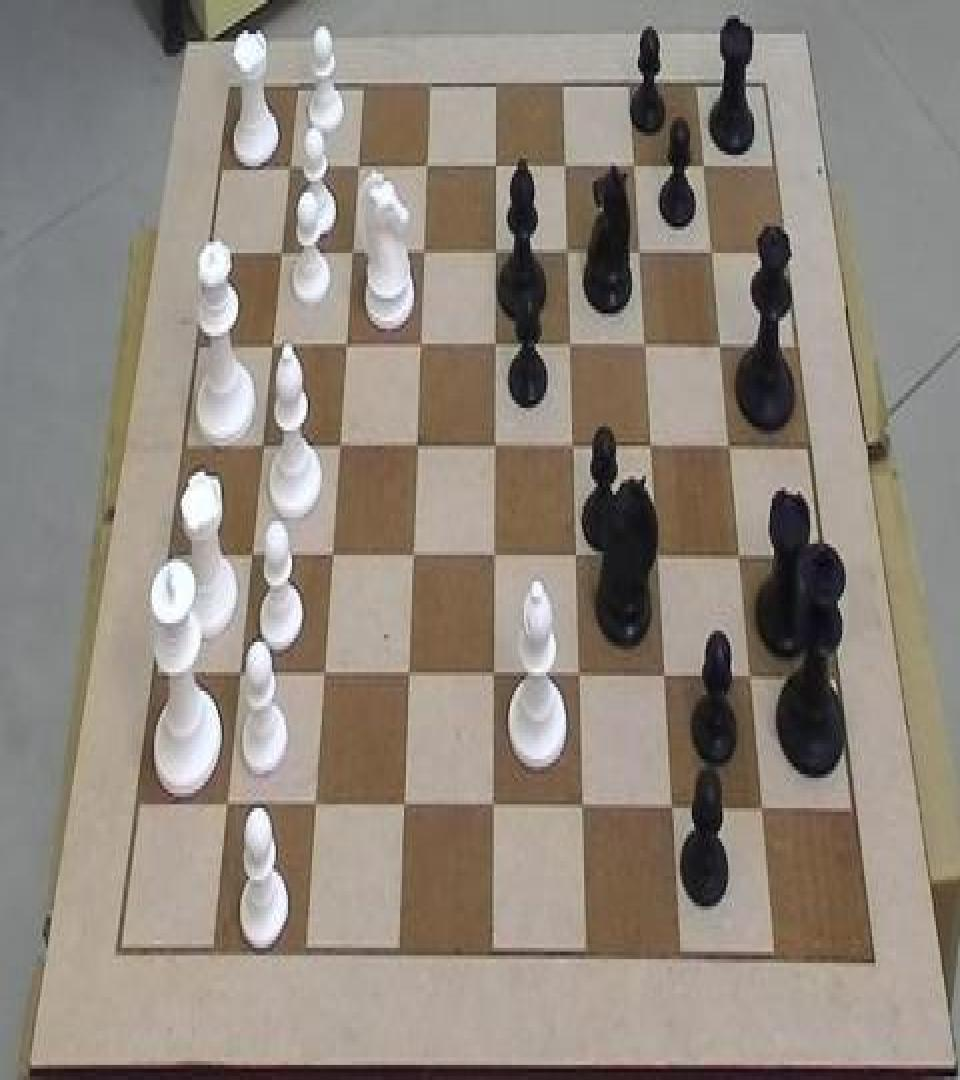xcorner: (693, 147, 713, 185), (623, 147, 643, 185), (554, 149, 574, 187), (485, 149, 505, 187), (416, 149, 436, 187), (347, 151, 367, 189), (278, 151, 298, 189), (701, 232, 721, 270), (628, 234, 648, 272), (556, 234, 576, 272), (484, 234, 504, 272), (412, 236, 432, 274), (341, 236, 361, 274), (270, 236, 290, 274), (709, 326, 729, 364), (634, 326, 654, 364), (559, 326, 579, 364), (484, 326, 504, 364), (409, 328, 429, 366), (335, 328, 355, 366), (260, 328, 280, 366), (719, 426, 739, 464), (640, 426, 660, 464), (561, 426, 581, 464), (483, 428, 503, 466), (405, 428, 425, 466), (328, 428, 348, 466), (250, 428, 270, 466), (729, 538, 749, 576), (647, 538, 667, 576), (565, 538, 585, 576), (483, 538, 503, 576), (401, 538, 421, 576), (320, 538, 340, 576), (239, 538, 259, 576), (740, 659, 760, 697), (654, 659, 674, 697), (568, 659, 588, 697), (482, 657, 502, 695), (397, 657, 417, 695), (312, 657, 332, 695), (227, 657, 247, 695), (753, 791, 773, 829), (662, 791, 682, 829), (572, 791, 592, 829), (482, 791, 502, 829), (392, 789, 412, 827), (303, 789, 323, 827), (214, 789, 234, 827)
